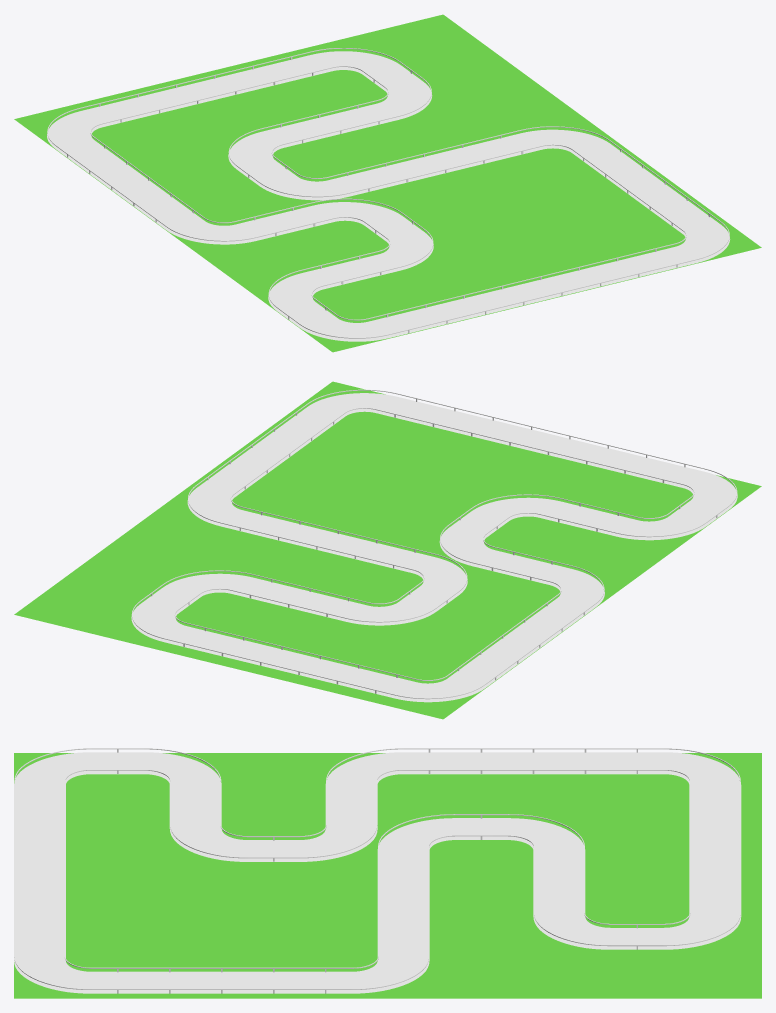
The model's file is pista.glb.
The picture shows the model from 3 angles, top to bottom: view 1: azimuth 30°, elevation 25°; view 2: azimuth 150°, elevation 25°; view 3: azimuth 270°, elevation 25°; orthographic projection. The views are drawn at different scales.
Parts seen in each view (by area): view 1: Mesh121 Group121 Model, Mesh22 Group22 Model.001, Mesh74 Group74 Model.001, Mesh2 Group2 Model.001, Mesh101 Group101 Model.001, Mesh18 Group18 Model.001, Mesh88 Group88 Model.001, Mesh7 Group7 Model.001, Mesh93 Group93 Model.001, Mesh14 Group14 Model.001, Mesh59 Group59 Model.001, Mesh39 Group39 Model.001 (+29 smaller); view 2: Mesh121 Group121 Model, Mesh93 Group93 Model.001, Mesh103 Group103 Model.001, Mesh14 Group14 Model.001, Mesh59 Group59 Model.001, Mesh7 Group7 Model.001, Mesh39 Group39 Model.001, Mesh88 Group88 Model.001, Mesh2 Group2 Model.001, Mesh101 Group101 Model.001, Mesh22 Group22 Model.001, Mesh18 Group18 Model.001 (+29 smaller); view 3: Mesh121 Group121 Model, Mesh39 Group39 Model.001, Mesh7 Group7 Model.001, Mesh22 Group22 Model.001, Mesh74 Group74 Model.001, Mesh2 Group2 Model.001, Mesh59 Group59 Model.001, Mesh88 Group88 Model.001, Mesh93 Group93 Model.001, Mesh14 Group14 Model.001, Mesh18 Group18 Model.001, Mesh101 Group101 Model.001 (+29 smaller).
Part boxes in pixels (box(x1,y1,x2,y2)): Mesh121 Group121 Model: box(14, 14, 761, 352); Mesh22 Group22 Model.001: box(156, 213, 275, 244); Mesh74 Group74 Model.001: box(501, 129, 620, 161); Mesh2 Group2 Model.001: box(289, 310, 408, 341); Mesh101 Group101 Model.001: box(292, 51, 410, 82); Mesh18 Group18 Model.001: box(294, 202, 412, 233); Mesh88 Group88 Model.001: box(249, 169, 368, 200); Mesh7 Group7 Model.001: box(268, 268, 341, 319); Mesh93 Group93 Model.001: box(228, 127, 301, 177); Mesh14 Group14 Model.001: box(360, 224, 433, 275); Mesh59 Group59 Model.001: box(656, 217, 730, 267); Mesh39 Group39 Model.001: box(47, 106, 120, 157); Mesh121 Group121 Model: box(14, 381, 761, 719); Mesh93 Group93 Model.001: box(327, 594, 447, 625); Mesh103 Group103 Model.001: box(152, 573, 271, 604); Mesh14 Group14 Model.001: box(461, 497, 579, 528); Mesh59 Group59 Model.001: box(297, 393, 415, 424); Mesh7 Group7 Model.001: box(597, 509, 717, 540); Mesh39 Group39 Model.001: box(376, 671, 495, 702); Mesh88 Group88 Model.001: box(394, 552, 467, 602); Mesh2 Group2 Model.001: box(664, 467, 737, 517); Mesh101 Group101 Model.001: box(131, 596, 204, 646); Mesh22 Group22 Model.001: box(531, 564, 604, 614); Mesh18 Group18 Model.001: box(439, 520, 513, 570); Mesh121 Group121 Model: box(14, 753, 761, 998); Mesh39 Group39 Model.001: box(637, 752, 741, 795); Mesh7 Group7 Model.001: box(118, 752, 221, 795); Mesh22 Group22 Model.001: box(325, 752, 429, 795); Mesh74 Group74 Model.001: box(325, 949, 429, 993); Mesh2 Group2 Model.001: box(14, 752, 117, 795); Mesh59 Group59 Model.001: box(14, 949, 117, 993); Mesh88 Group88 Model.001: box(377, 818, 481, 861); Mesh93 Group93 Model.001: box(481, 818, 585, 861); Mesh14 Group14 Model.001: box(169, 818, 273, 861); Mesh18 Group18 Model.001: box(273, 818, 377, 861); Mesh101 Group101 Model.001: box(637, 906, 741, 949).
Bounding box in the file's own units: 140 × 1.26 × 180.
